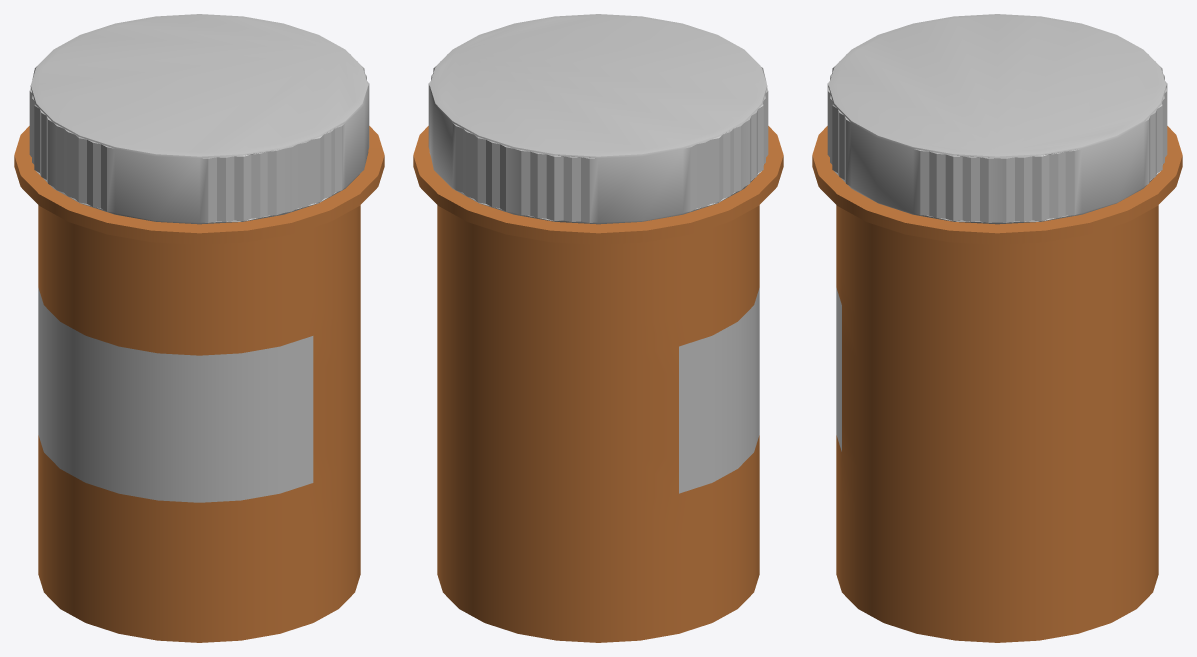
The model's file is Bottle2.fbx.
3 views of the same model, side by side, from view 1: azimuth 30°, elevation 25°; view 2: azimuth 150°, elevation 25°; view 3: azimuth 270°, elevation 25° (orthographic).
Parts seen in each view (by area): view 1: 2Bottle_Base, 2Bottle_Cap, 2Bottle_Cover; view 2: 2Bottle_Base, 2Bottle_Cap, 2Bottle_Cover; view 3: 2Bottle_Base, 2Bottle_Cap, 2Bottle_Cover.
Boxes of the visible parts, bbox=[...] form: 2Bottle_Base: bbox=[14, 126, 384, 642]; 2Bottle_Cap: bbox=[29, 14, 369, 224]; 2Bottle_Cover: bbox=[38, 288, 313, 502]; 2Bottle_Base: bbox=[413, 126, 783, 642]; 2Bottle_Cap: bbox=[428, 14, 768, 224]; 2Bottle_Cover: bbox=[679, 288, 759, 493]; 2Bottle_Base: bbox=[812, 126, 1182, 642]; 2Bottle_Cap: bbox=[827, 14, 1167, 224]; 2Bottle_Cover: bbox=[836, 288, 841, 451].
Bounding box in the file's own units: 3.79 × 5.54 × 3.79.
